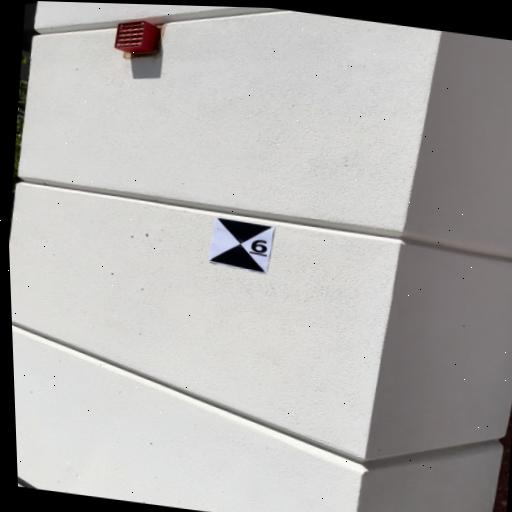target6: (209, 216, 273, 273)
